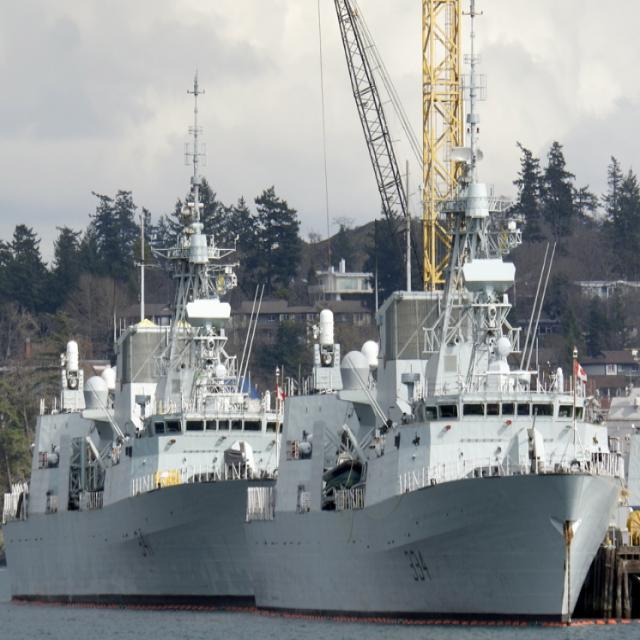Fragata: (246, 141, 628, 631), (1, 35, 283, 615)
